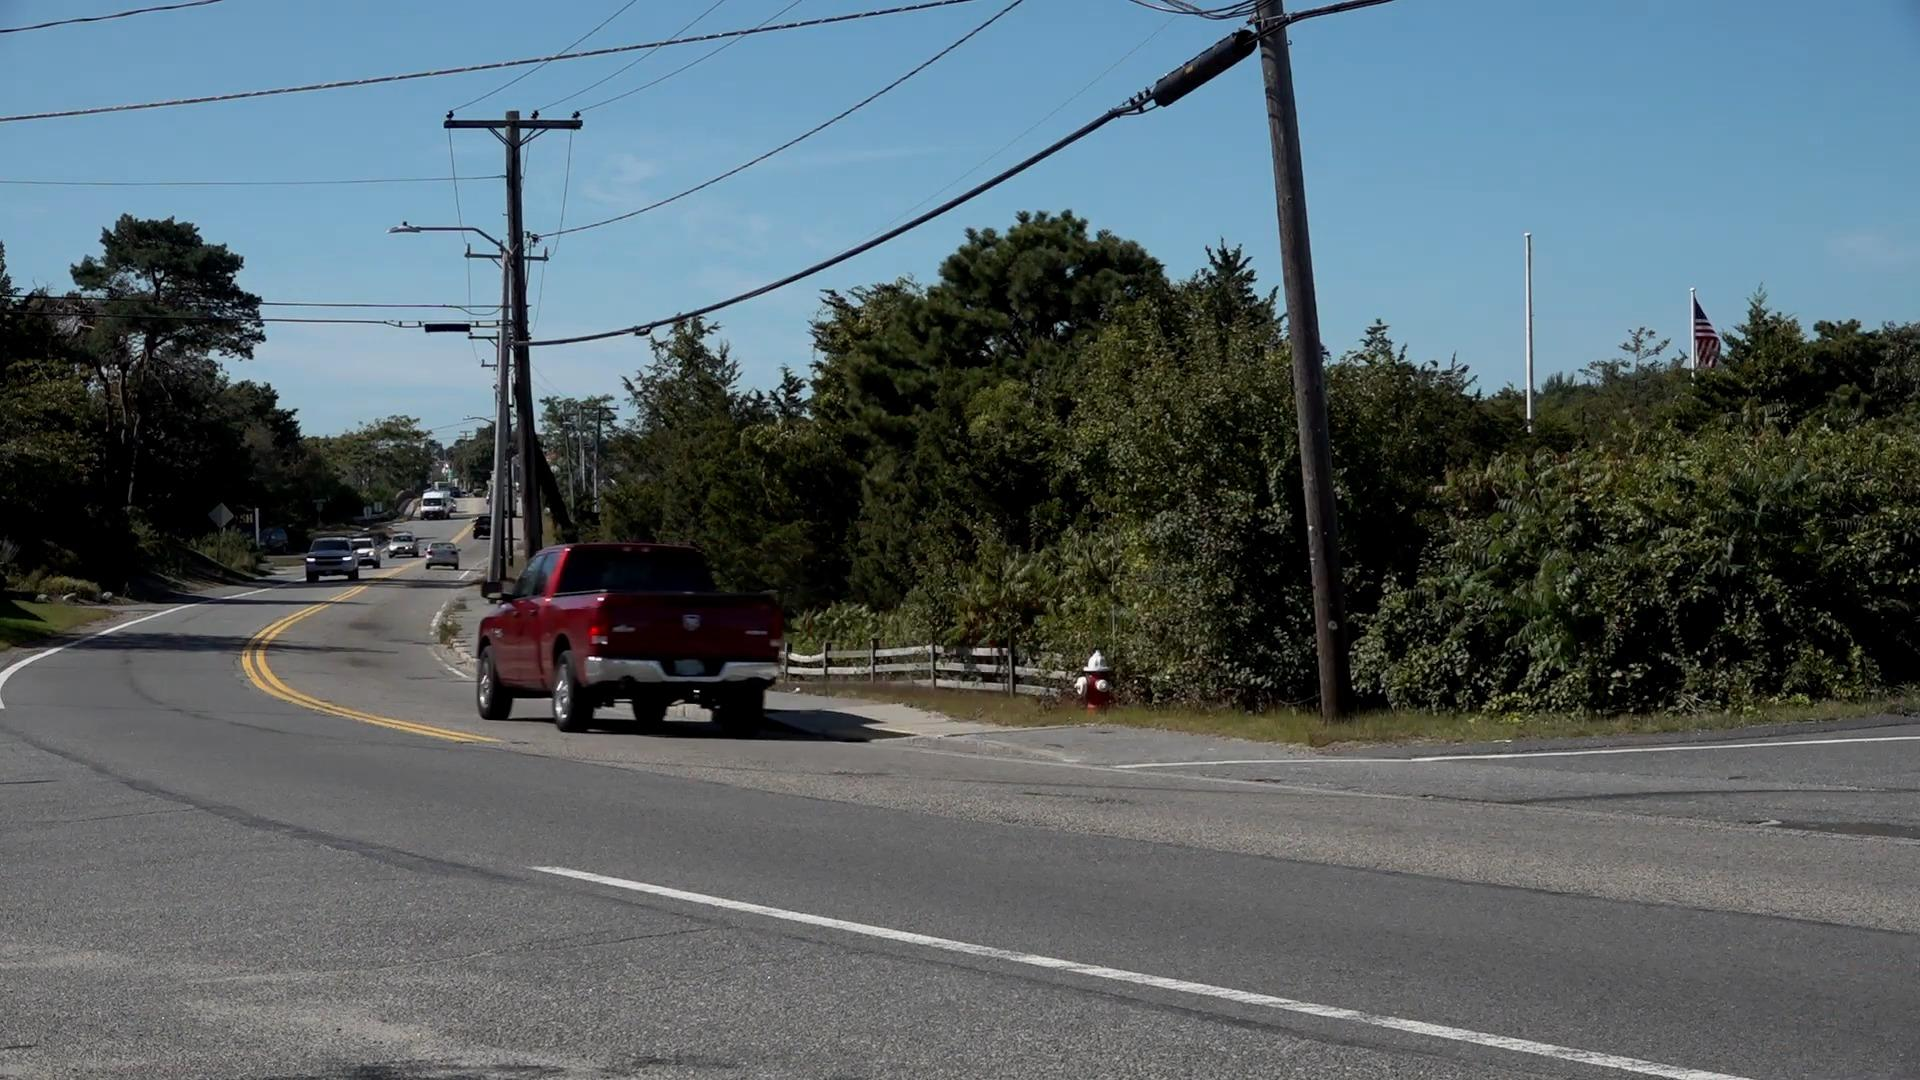pickup: (476, 546, 787, 736), (303, 537, 361, 584)
